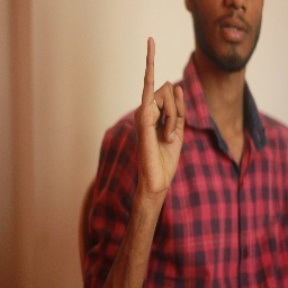I: (138, 36, 194, 187)
